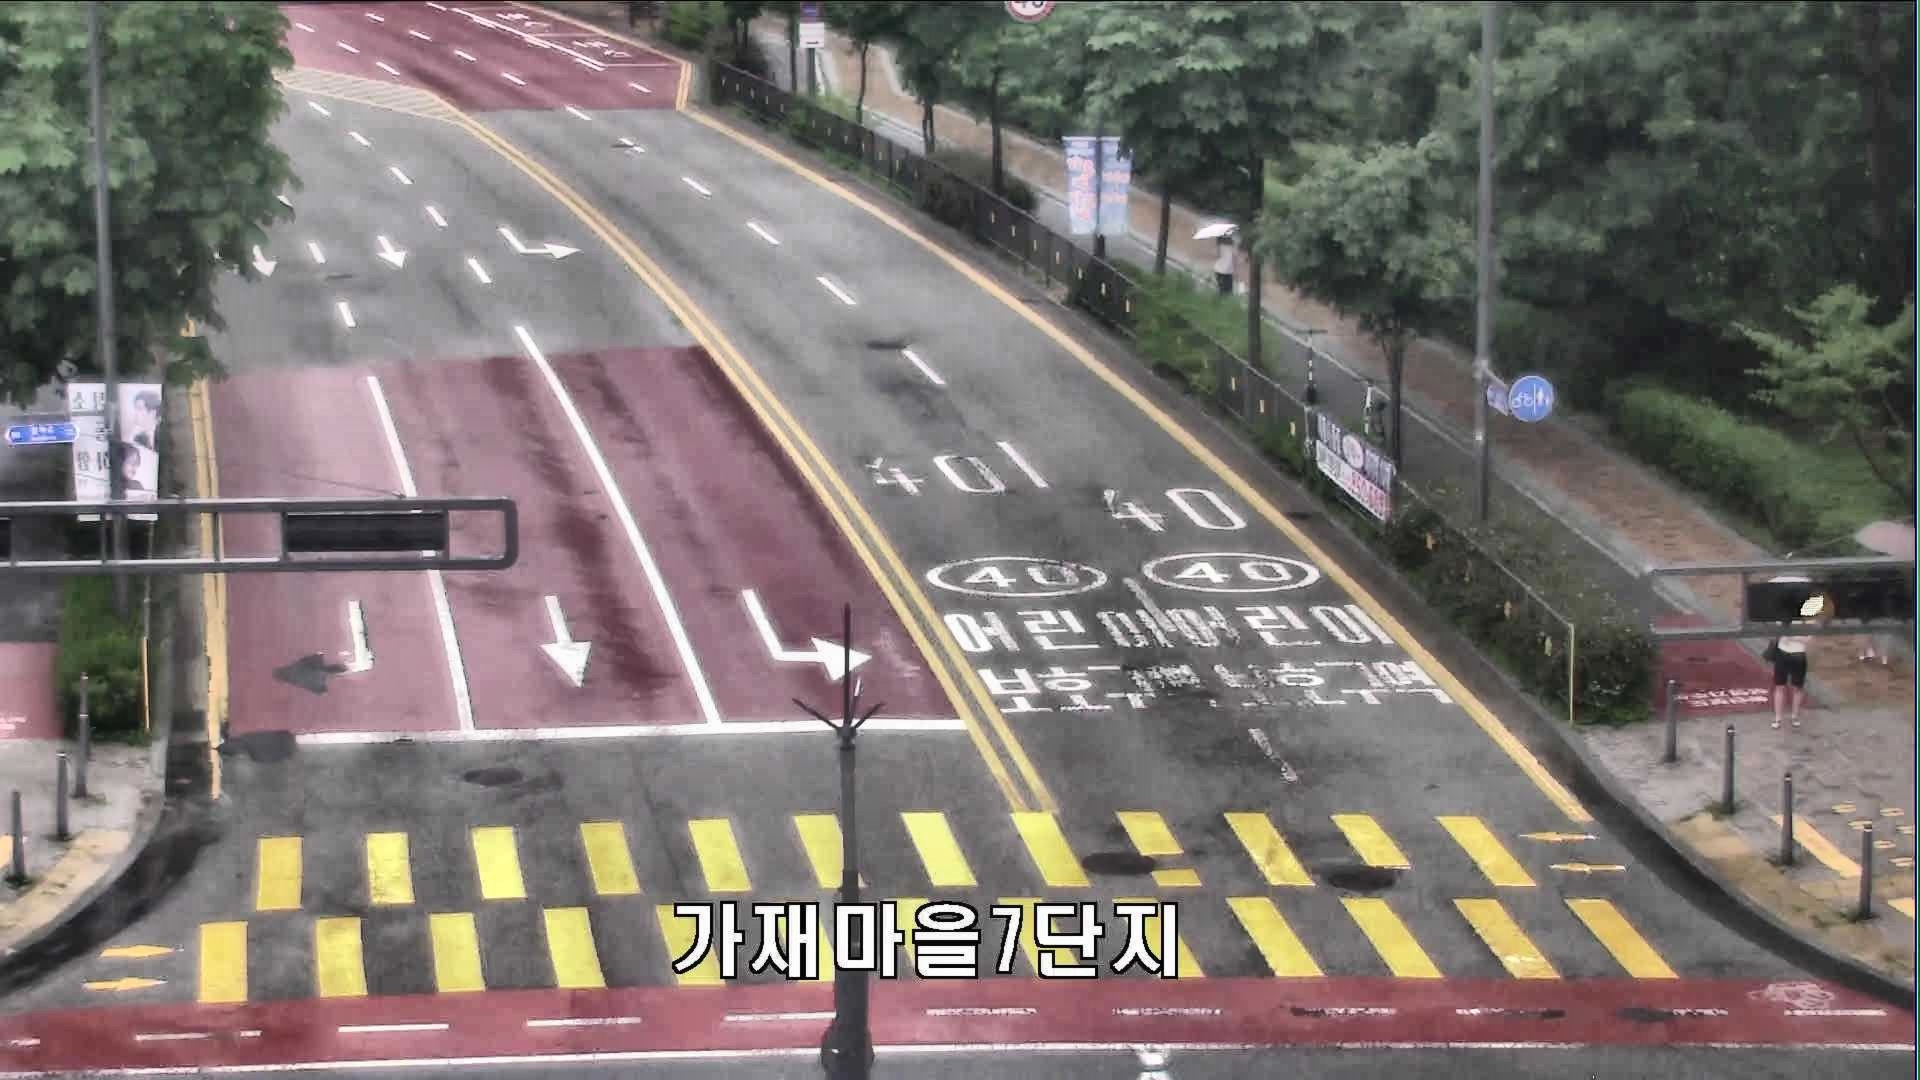um_sidewalk: (1749, 574, 1837, 728), (1193, 222, 1244, 290)
